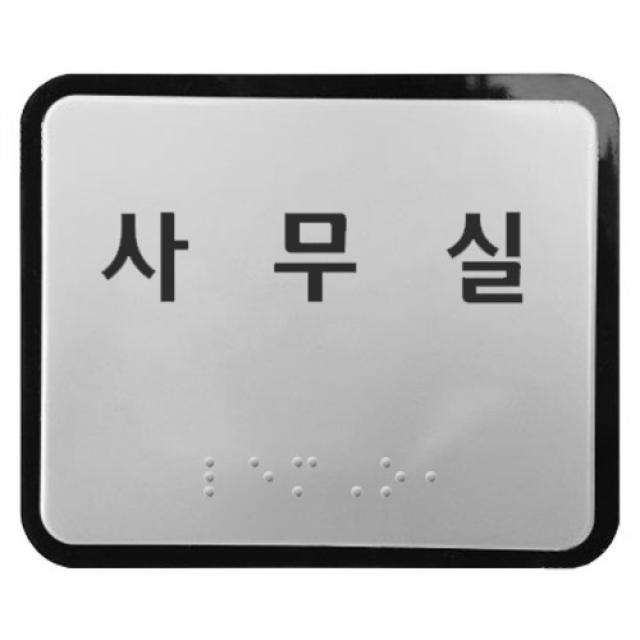braiile: (204, 455, 232, 499), (335, 455, 363, 499), (380, 456, 408, 498), (248, 455, 274, 499), (411, 456, 438, 498), (292, 455, 318, 498)
